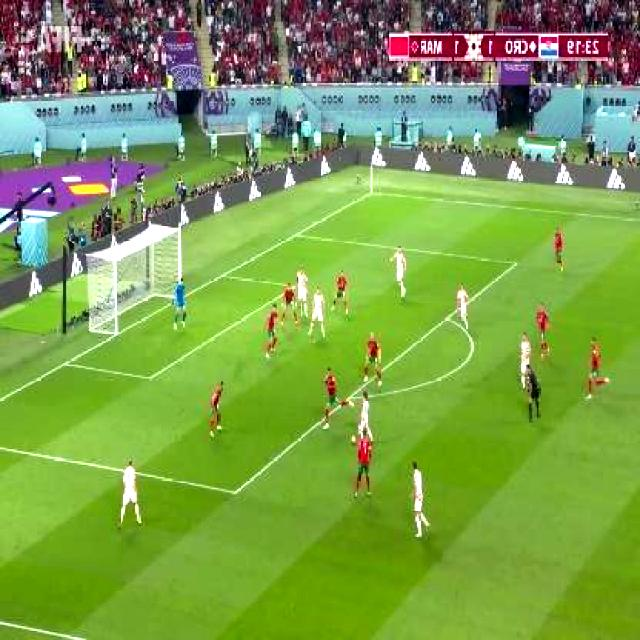bigarea_bottom_inner: (228, 478, 245, 504)
bigarea_top_inner: (511, 254, 522, 271)
bigarea_top_outter: (292, 229, 302, 240)
bottom_arc_area_intersection: (343, 390, 354, 404)
corner: (369, 191, 378, 197)
smallarea_bottom_inner: (143, 368, 159, 388)
smallarea_bottom_outter: (60, 355, 72, 371)
smallarea_top_inner: (286, 281, 296, 294)
smallarea_top_outter: (220, 269, 229, 282)
top_arc_area_intersection: (444, 309, 456, 325)
